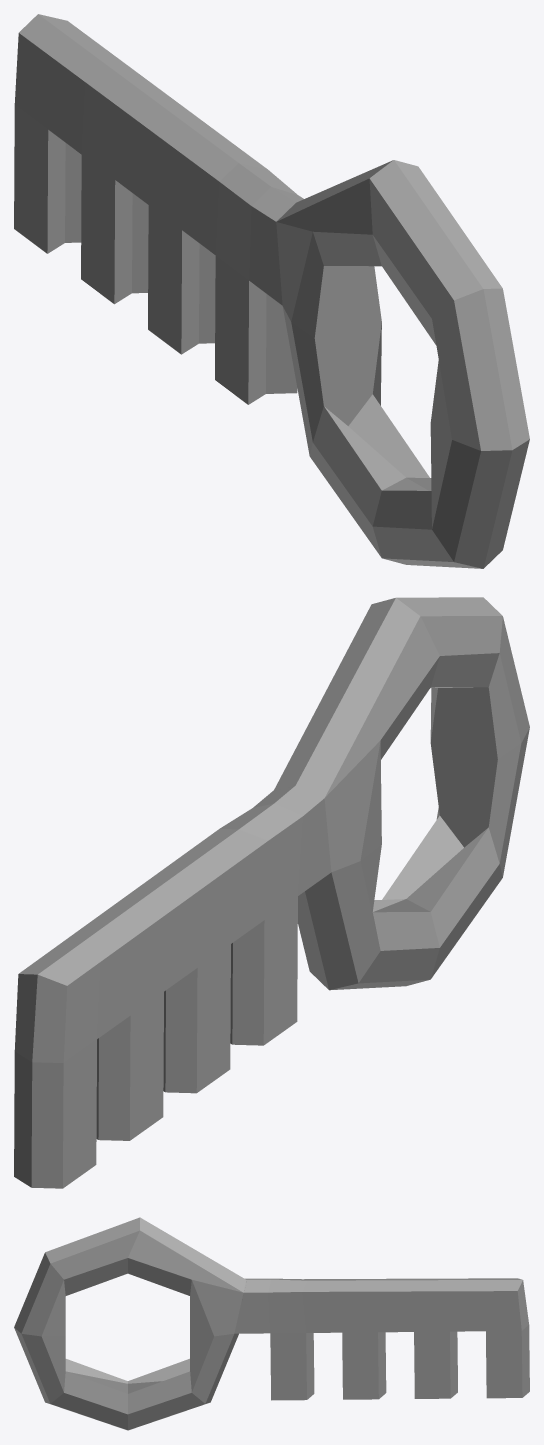
The model's file is Key.fbx.
3 renders of one model, top to bottom at view 1: azimuth 30°, elevation 25°; view 2: azimuth 150°, elevation 25°; view 3: azimuth 270°, elevation 25°, orthographic. The views are drawn at different scales.
Visible parts, largest first — view 1: Cube; view 2: Cube; view 3: Cube.
Boxes of the visible parts, bbox=[...] form: Cube: bbox=[14, 14, 529, 568]; Cube: bbox=[14, 597, 529, 1188]; Cube: bbox=[14, 1217, 529, 1430].
Size of the model in its own units: 33.78 by 185 by 406.
Materials: 1 (1 with a texture image).
